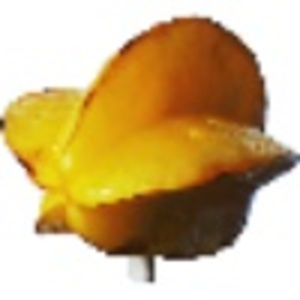carambola: (1, 13, 300, 280)
